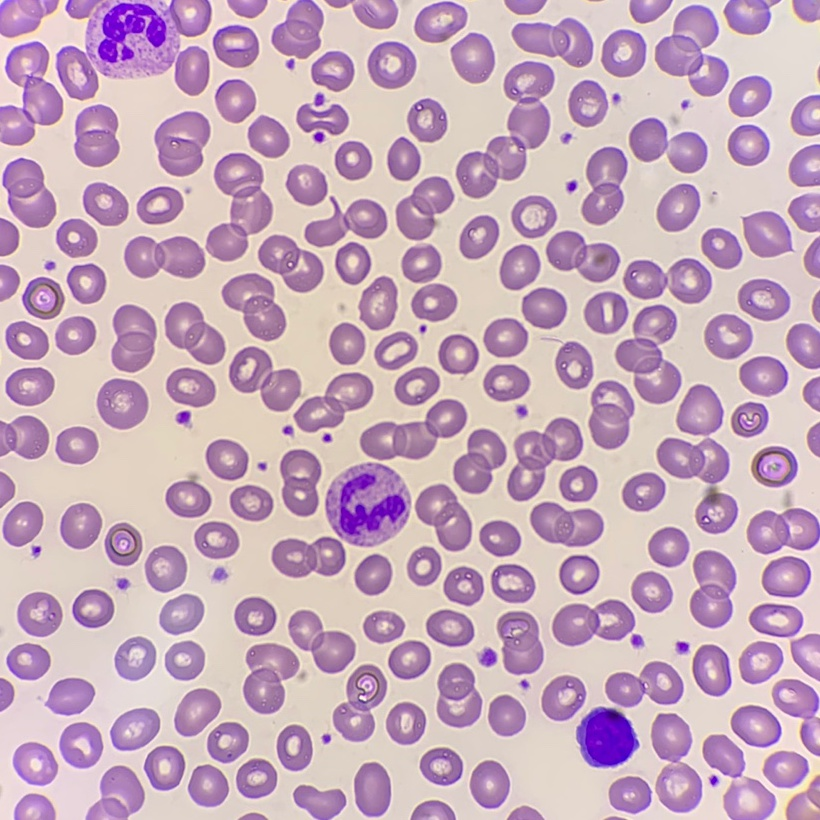RBC: (456, 62, 553, 197), (325, 463, 409, 546), (207, 153, 272, 260), (360, 399, 466, 459), (0, 43, 62, 145), (616, 305, 680, 403), (655, 8, 726, 95), (507, 418, 582, 500), (651, 714, 700, 811), (229, 347, 300, 410), (295, 373, 372, 431), (629, 119, 706, 172), (223, 274, 285, 339), (289, 610, 354, 672), (333, 665, 386, 741), (244, 643, 298, 713), (513, 19, 592, 66), (624, 259, 710, 302), (305, 200, 386, 245), (553, 600, 633, 645), (258, 235, 322, 291), (416, 485, 471, 550), (547, 231, 618, 281), (165, 303, 224, 363), (3, 159, 55, 227), (396, 177, 453, 239), (773, 679, 819, 754), (155, 112, 209, 175), (582, 147, 626, 224), (605, 662, 682, 706), (690, 551, 734, 627), (454, 429, 505, 493), (576, 707, 633, 764), (747, 508, 819, 553), (657, 438, 728, 483), (531, 502, 603, 546), (125, 237, 204, 277), (86, 766, 144, 819), (589, 381, 633, 448), (112, 305, 156, 371), (272, 1, 322, 58), (272, 537, 345, 576), (497, 611, 542, 673), (437, 663, 481, 726), (280, 449, 320, 515), (75, 105, 118, 166), (97, 379, 147, 428), (368, 42, 415, 88), (677, 385, 721, 434), (451, 33, 494, 82), (175, 689, 220, 735), (0, 0, 57, 36), (738, 279, 788, 320), (415, 2, 466, 42), (57, 47, 97, 98), (743, 212, 789, 256), (0, 416, 48, 458), (705, 314, 750, 358), (657, 184, 699, 231), (111, 708, 159, 749), (17, 592, 61, 636), (602, 31, 645, 76), (724, 779, 772, 819), (83, 183, 128, 225), (762, 556, 809, 596), (360, 277, 396, 329), (731, 706, 779, 745), (354, 763, 390, 815), (166, 475, 210, 517), (542, 676, 584, 720), (60, 722, 102, 766), (213, 26, 258, 67), (60, 503, 101, 548), (145, 546, 186, 591), (696, 486, 736, 532), (167, 368, 215, 406), (693, 645, 729, 695), (470, 761, 509, 807), (512, 196, 555, 237), (584, 292, 627, 333), (14, 742, 57, 783), (522, 288, 566, 328), (752, 446, 796, 486), (740, 356, 785, 395), (132, 36, 179, 73), (6, 368, 53, 405), (294, 785, 345, 819), (739, 642, 782, 682), (500, 245, 539, 289), (750, 603, 801, 636), (115, 637, 155, 679), (3, 502, 42, 545), (160, 594, 203, 633), (145, 746, 184, 789), (569, 81, 606, 126), (556, 342, 592, 388), (248, 116, 288, 157), (23, 277, 63, 318), (311, 51, 353, 90), (491, 564, 534, 602), (395, 367, 439, 404), (137, 187, 182, 223), (427, 610, 473, 645), (216, 80, 255, 121), (206, 440, 247, 479), (386, 703, 425, 744), (207, 722, 248, 761), (175, 47, 209, 94), (408, 99, 446, 141), (460, 216, 498, 258), (484, 318, 526, 356), (412, 284, 456, 320), (484, 365, 529, 400), (48, 678, 93, 713), (287, 165, 327, 204), (632, 572, 671, 612), (703, 735, 742, 775), (189, 765, 227, 806), (6, 322, 48, 359), (420, 747, 462, 784), (195, 522, 238, 558), (649, 527, 688, 566), (729, 78, 769, 116), (728, 125, 766, 165), (702, 228, 740, 268), (73, 589, 113, 627), (235, 597, 275, 635), (236, 759, 276, 797), (375, 332, 416, 369), (623, 473, 664, 510), (389, 641, 430, 678), (105, 523, 141, 565), (7, 644, 50, 679), (277, 725, 311, 769), (67, 264, 105, 303), (56, 316, 95, 354), (439, 335, 478, 373), (559, 555, 598, 593), (165, 641, 204, 679), (56, 219, 96, 256), (56, 427, 97, 463), (230, 485, 272, 520), (297, 105, 347, 134), (170, 0, 210, 36), (489, 695, 525, 735), (609, 777, 650, 812), (764, 751, 806, 785), (787, 324, 819, 368), (444, 567, 482, 604), (355, 555, 391, 594), (335, 243, 370, 283), (330, 323, 364, 364), (387, 138, 420, 180), (335, 141, 371, 179), (402, 246, 440, 282), (480, 521, 520, 555), (725, 0, 766, 33), (560, 466, 596, 501), (407, 547, 440, 585), (789, 145, 819, 186), (364, 611, 403, 642), (354, 0, 397, 28), (732, 403, 766, 436), (791, 96, 819, 135), (789, 195, 819, 231), (15, 794, 55, 819), (630, 0, 670, 22), (411, 800, 454, 819), (787, 795, 819, 819), (67, 0, 107, 18), (791, 634, 819, 659), (0, 219, 18, 255), (228, 0, 266, 17), (0, 265, 19, 299), (804, 239, 819, 276), (505, 0, 544, 14), (793, 0, 819, 20), (804, 378, 819, 409), (0, 473, 14, 504), (0, 679, 13, 709), (509, 807, 541, 819), (807, 424, 819, 454), (99, 41, 116, 58), (478, 649, 495, 664), (808, 784, 819, 805), (805, 664, 819, 678), (177, 411, 190, 423), (133, 19, 144, 32), (813, 295, 819, 318), (328, 0, 347, 7), (214, 568, 225, 579), (244, 813, 263, 819), (116, 578, 127, 588), (516, 405, 526, 415), (101, 65, 109, 73), (783, 497, 791, 505), (632, 636, 640, 644)
